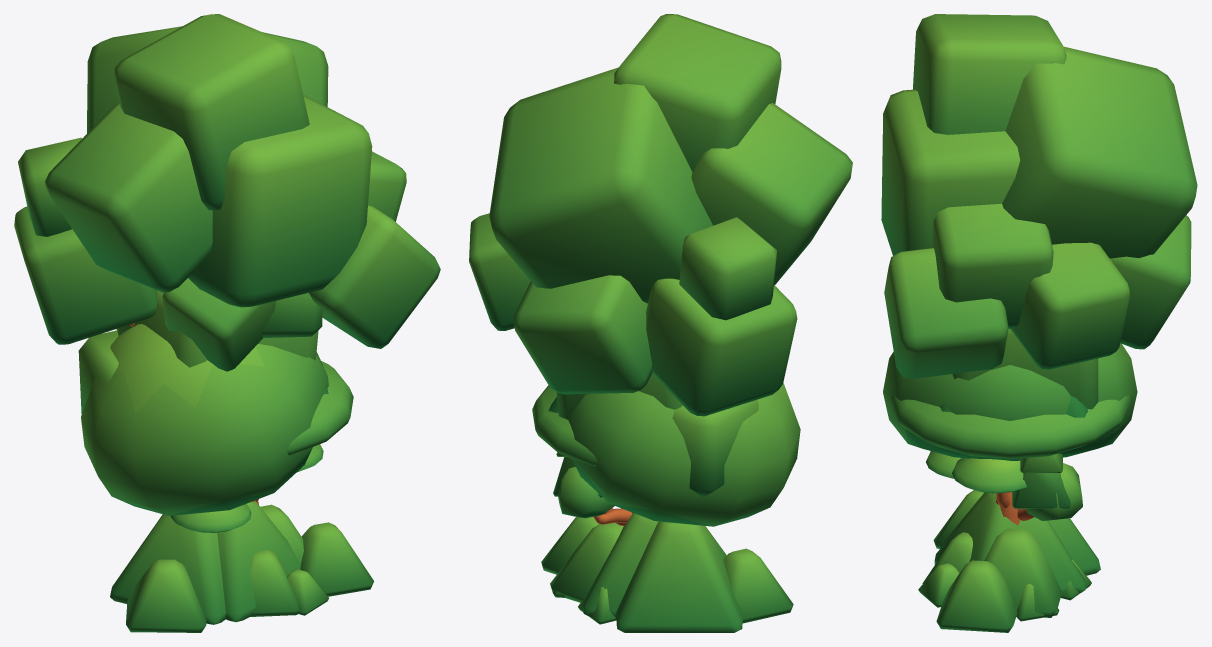
File: nature-pack.glb
The picture shows the model from 3 angles, left to right: view 1: azimuth 30°, elevation 25°; view 2: azimuth 150°, elevation 25°; view 3: azimuth 270°, elevation 25°; orthographic projection. The views are drawn at different scales.
Visible parts, largest first — view 1: Tree_2_D_Color1, Tree_1_A_Color1, Bush_4_F_Color1, Bush_4_E_Color1, Tree_2_A_Color1, Tree_3_A_Color1; view 2: Tree_2_D_Color1, Tree_1_A_Color1, Bush_4_E_Color1, Bush_4_F_Color1, Tree_2_A_Color1, Tree_3_A_Color1; view 3: Tree_2_D_Color1, Tree_1_A_Color1, Tree_3_A_Color1, Bush_4_F_Color1, Bush_4_E_Color1, Tree_4_A_Color1, Tree_2_A_Color1.
Boxes of the visible parts, x1,y1,x2,y2 form: Tree_2_D_Color1: [14, 14, 440, 371]; Tree_1_A_Color1: [81, 324, 328, 515]; Bush_4_F_Color1: [126, 501, 373, 632]; Bush_4_E_Color1: [110, 504, 303, 624]; Tree_2_A_Color1: [78, 290, 318, 413]; Tree_3_A_Color1: [170, 361, 353, 532]; Tree_2_D_Color1: [469, 14, 852, 416]; Tree_1_A_Color1: [556, 383, 800, 526]; Bush_4_E_Color1: [550, 521, 742, 632]; Bush_4_F_Color1: [541, 513, 793, 623]; Tree_2_A_Color1: [556, 374, 758, 497]; Tree_3_A_Color1: [532, 385, 598, 466]; Tree_2_D_Color1: [881, 14, 1197, 378]; Tree_1_A_Color1: [883, 343, 1137, 525]; Tree_3_A_Color1: [889, 395, 1131, 508]; Bush_4_F_Color1: [918, 490, 1085, 632]; Bush_4_E_Color1: [922, 492, 1100, 617]; Tree_4_A_Color1: [940, 396, 1087, 520]; Tree_2_A_Color1: [952, 328, 1098, 409].
Bounding box in the file's own units: 4.74 × 8.09 × 4.03.
1 material, 1 textured.
